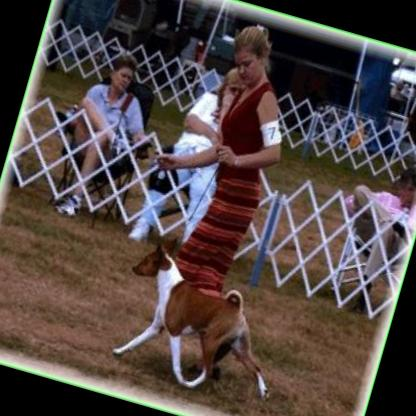basenji: (104, 231, 306, 406)
